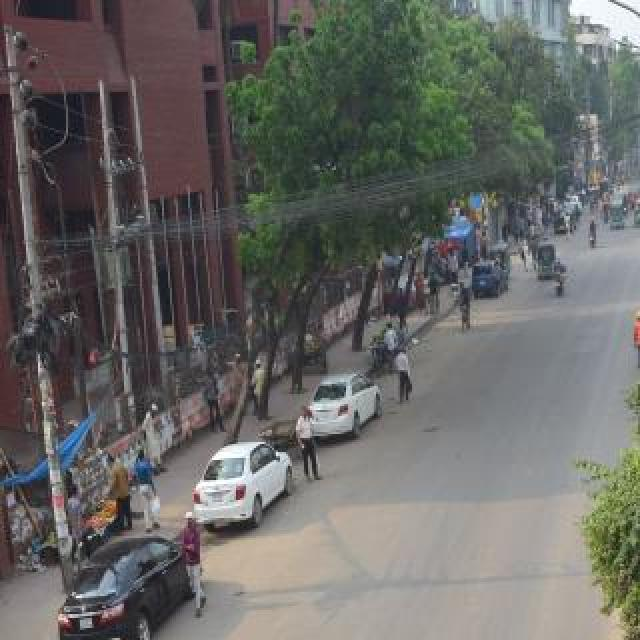bus: (620, 160, 640, 218)
car: (50, 498, 188, 640), (275, 353, 397, 491), (162, 433, 288, 565), (468, 252, 514, 300), (549, 201, 585, 239), (563, 181, 591, 223)
motorbike: (547, 258, 581, 306), (582, 217, 602, 249), (616, 190, 632, 216), (599, 201, 615, 223), (638, 210, 640, 238)
